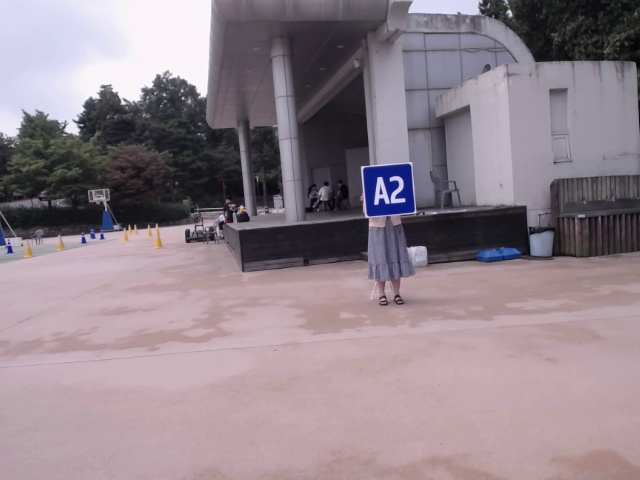delivery_a2: (363, 164, 416, 217)
